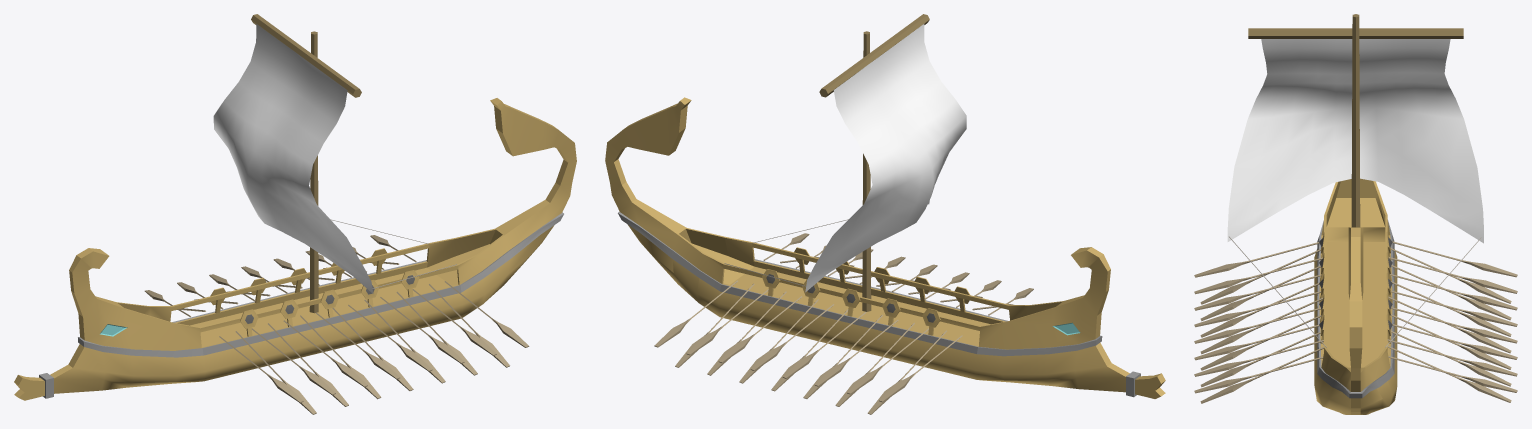
The model's file is M_Trireme.fbx.
The picture shows the model from 3 angles, left to right: view 1: azimuth 30°, elevation 25°; view 2: azimuth 150°, elevation 25°; view 3: azimuth 270°, elevation 25°; orthographic projection. The views are drawn at different scales.
Visible parts, largest first — view 1: M_Trireme, M_Trireme_Voile, M_Trireme_Mat2, M_Trireme_Mat1; view 2: M_Trireme, M_Trireme_Voile, M_Trireme_Mat2, M_Trireme_Mat1; view 3: M_Trireme_Voile, M_Trireme, M_Trireme_Mat2, M_Trireme_Mat1, M_Trireme_Rame20, M_Trireme_Rame24, M_Trireme_Rame9, M_Trireme_Rame21, M_Trireme_Rame28, M_Trireme_Rame16, M_Trireme_Rame4, M_Trireme_Rame29 (+22 smaller).
Part boxes in pixels (left/top/right/bottom): M_Trireme: left=14, top=98, right=576, bottom=400; M_Trireme_Voile: left=213, top=24, right=373, bottom=293; M_Trireme_Mat2: left=251, top=14, right=361, bottom=97; M_Trireme_Mat1: left=309, top=31, right=318, bottom=313; M_Trireme: left=605, top=97, right=1165, bottom=398; M_Trireme_Voile: left=805, top=24, right=966, bottom=292; M_Trireme_Mat2: left=819, top=14, right=929, bottom=97; M_Trireme_Mat1: left=862, top=31, right=871, bottom=311; M_Trireme_Voile: left=1227, top=39, right=1483, bottom=243; M_Trireme: left=1314, top=178, right=1397, bottom=414; M_Trireme_Mat2: left=1248, top=28, right=1463, bottom=38; M_Trireme_Mat1: left=1351, top=14, right=1360, bottom=227; M_Trireme_Rame20: left=1387, top=339, right=1517, bottom=376; M_Trireme_Rame24: left=1389, top=257, right=1517, bottom=293; M_Trireme_Rame9: left=1194, top=356, right=1323, bottom=393; M_Trireme_Rame21: left=1388, top=356, right=1517, bottom=392; M_Trireme_Rame28: left=1391, top=290, right=1517, bottom=326; M_Trireme_Rame16: left=1391, top=307, right=1517, bottom=343; M_Trireme_Rame4: left=1194, top=274, right=1321, bottom=310; M_Trireme_Rame29: left=1390, top=274, right=1517, bottom=310.
Size of the model in its own units: 69.25 by 37 by 33.08.
